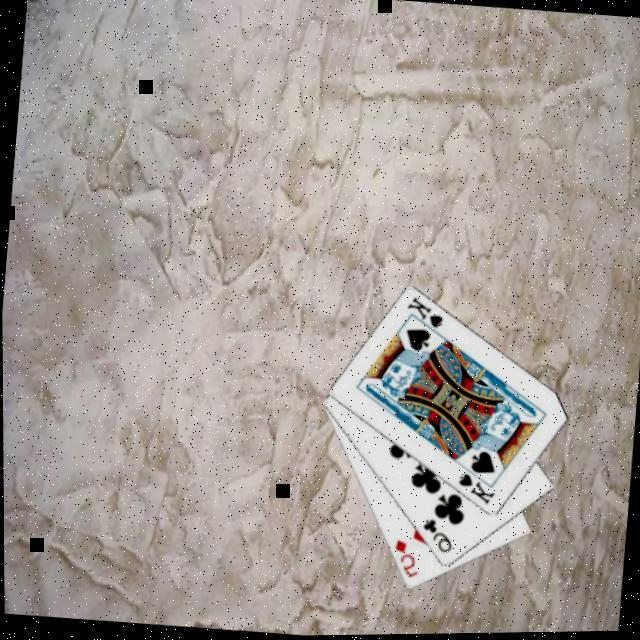5D: (388, 539, 422, 585)
9C: (415, 518, 455, 559)
KS: (400, 296, 446, 342), (452, 472, 496, 512)
